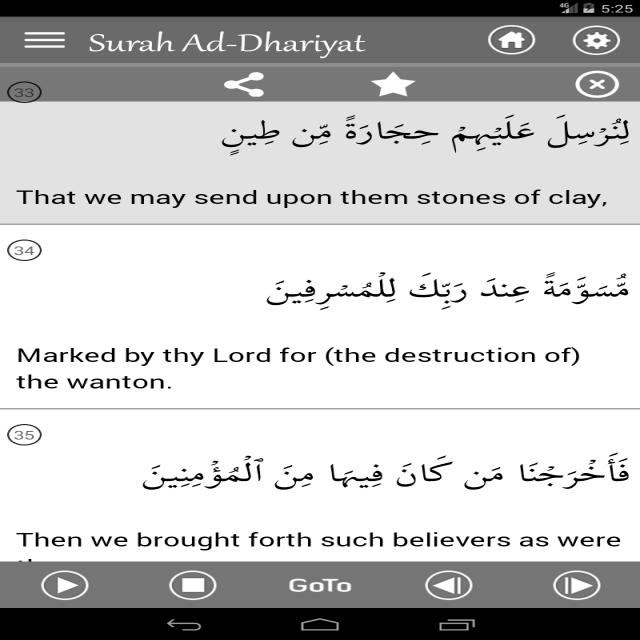ImageButton: (536, 566, 614, 606), (31, 564, 100, 604), (157, 563, 227, 601), (422, 564, 487, 604), (559, 24, 630, 58), (481, 23, 539, 61), (561, 71, 630, 99), (18, 29, 72, 53)
TextView: (123, 448, 631, 496), (6, 180, 624, 216), (8, 339, 588, 371), (202, 110, 634, 152), (242, 270, 630, 314), (75, 27, 382, 61), (278, 570, 366, 594)
